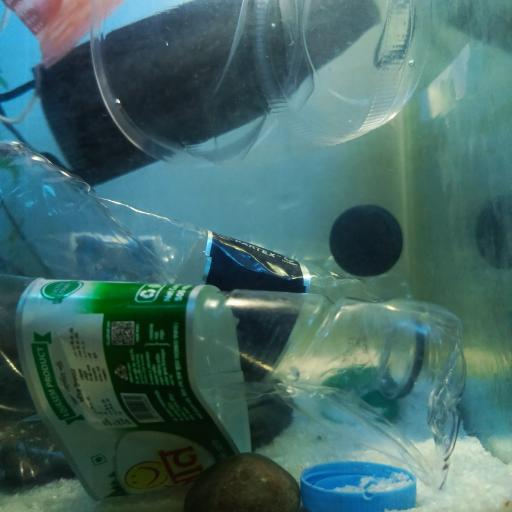bottle_cap: (298, 459, 416, 511), (332, 204, 403, 276)
mask: (0, 0, 374, 188), (1, 0, 132, 71)
plastic_bottle: (0, 138, 438, 398), (0, 273, 462, 497)
plastic_cup: (89, 0, 433, 168)
